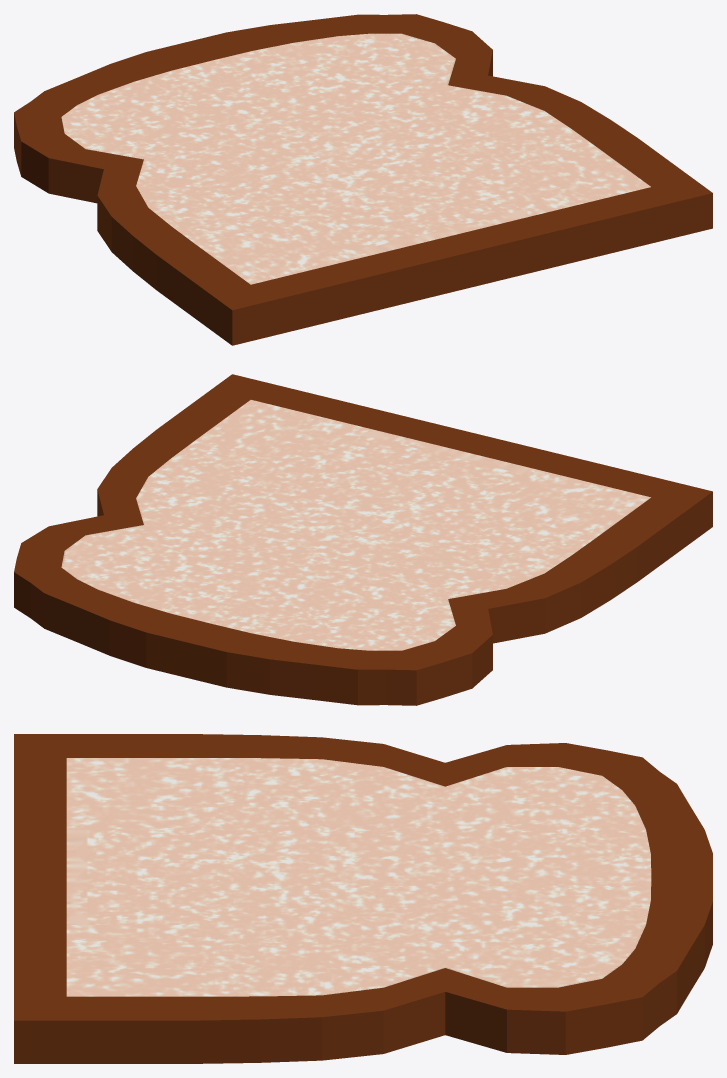
The model's file is bread.gltf.
3 views of the same model, one above another, from view 1: azimuth 30°, elevation 25°; view 2: azimuth 150°, elevation 25°; view 3: azimuth 270°, elevation 25° (orthographic). The views are drawn at different scales.
Parts seen in each view (by area): view 1: Slice; view 2: Slice; view 3: Slice.
Part boxes in pixels (left/top/right/bottom): Slice: left=14, top=14, right=712, bottom=345; Slice: left=14, top=374, right=712, bottom=705; Slice: left=14, top=734, right=712, bottom=1063.
Bounding box in the file's own units: 0.2 × 0.0141 × 0.2063.
Materials: 2 (1 with a texture image).
